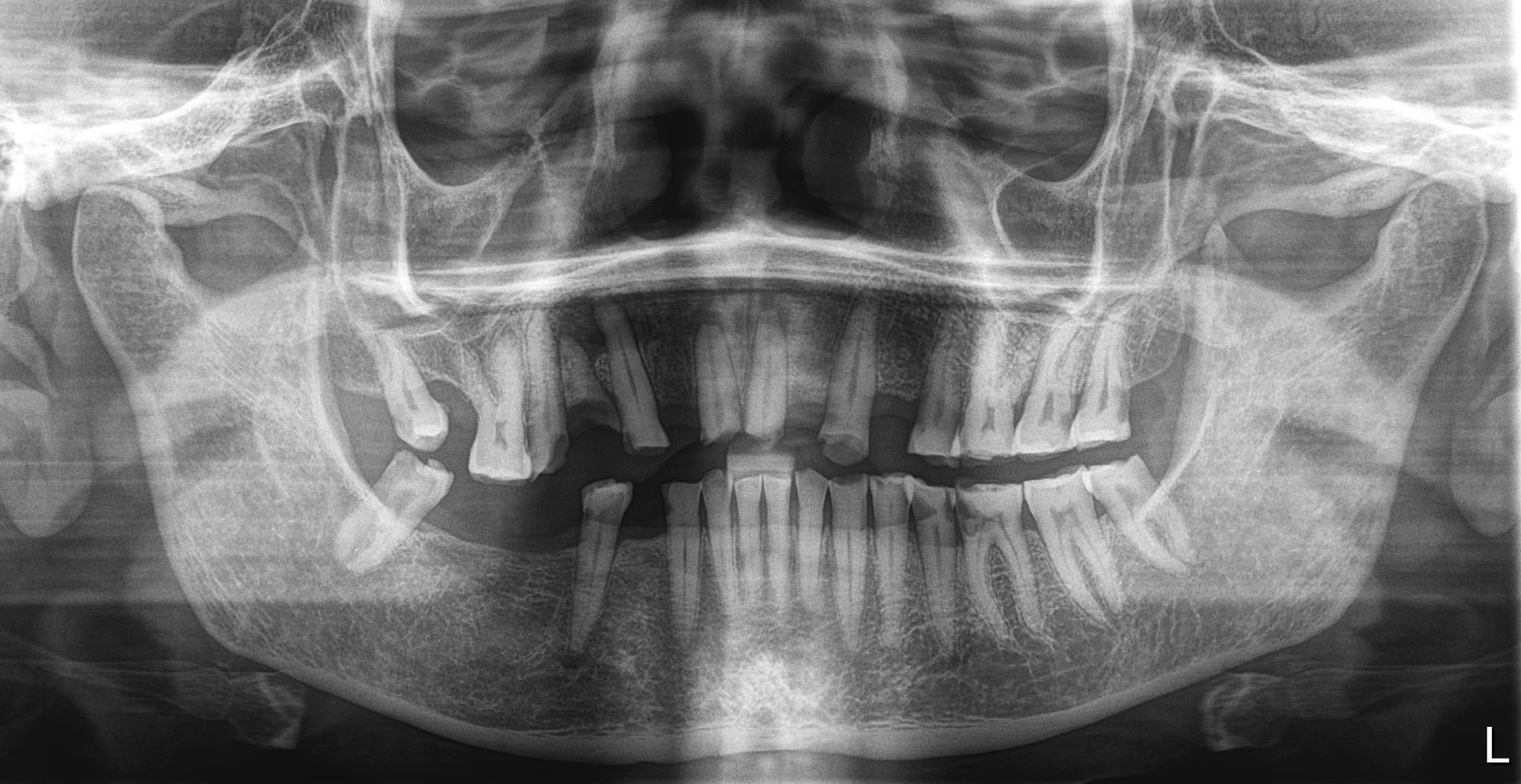Dental Caries: (943, 499, 993, 555)
Missing Tooth: (446, 475, 586, 589), (648, 332, 709, 469), (875, 306, 932, 452), (791, 288, 843, 439), (628, 477, 675, 630), (434, 375, 483, 463)
Retained Root: (561, 332, 616, 436)
